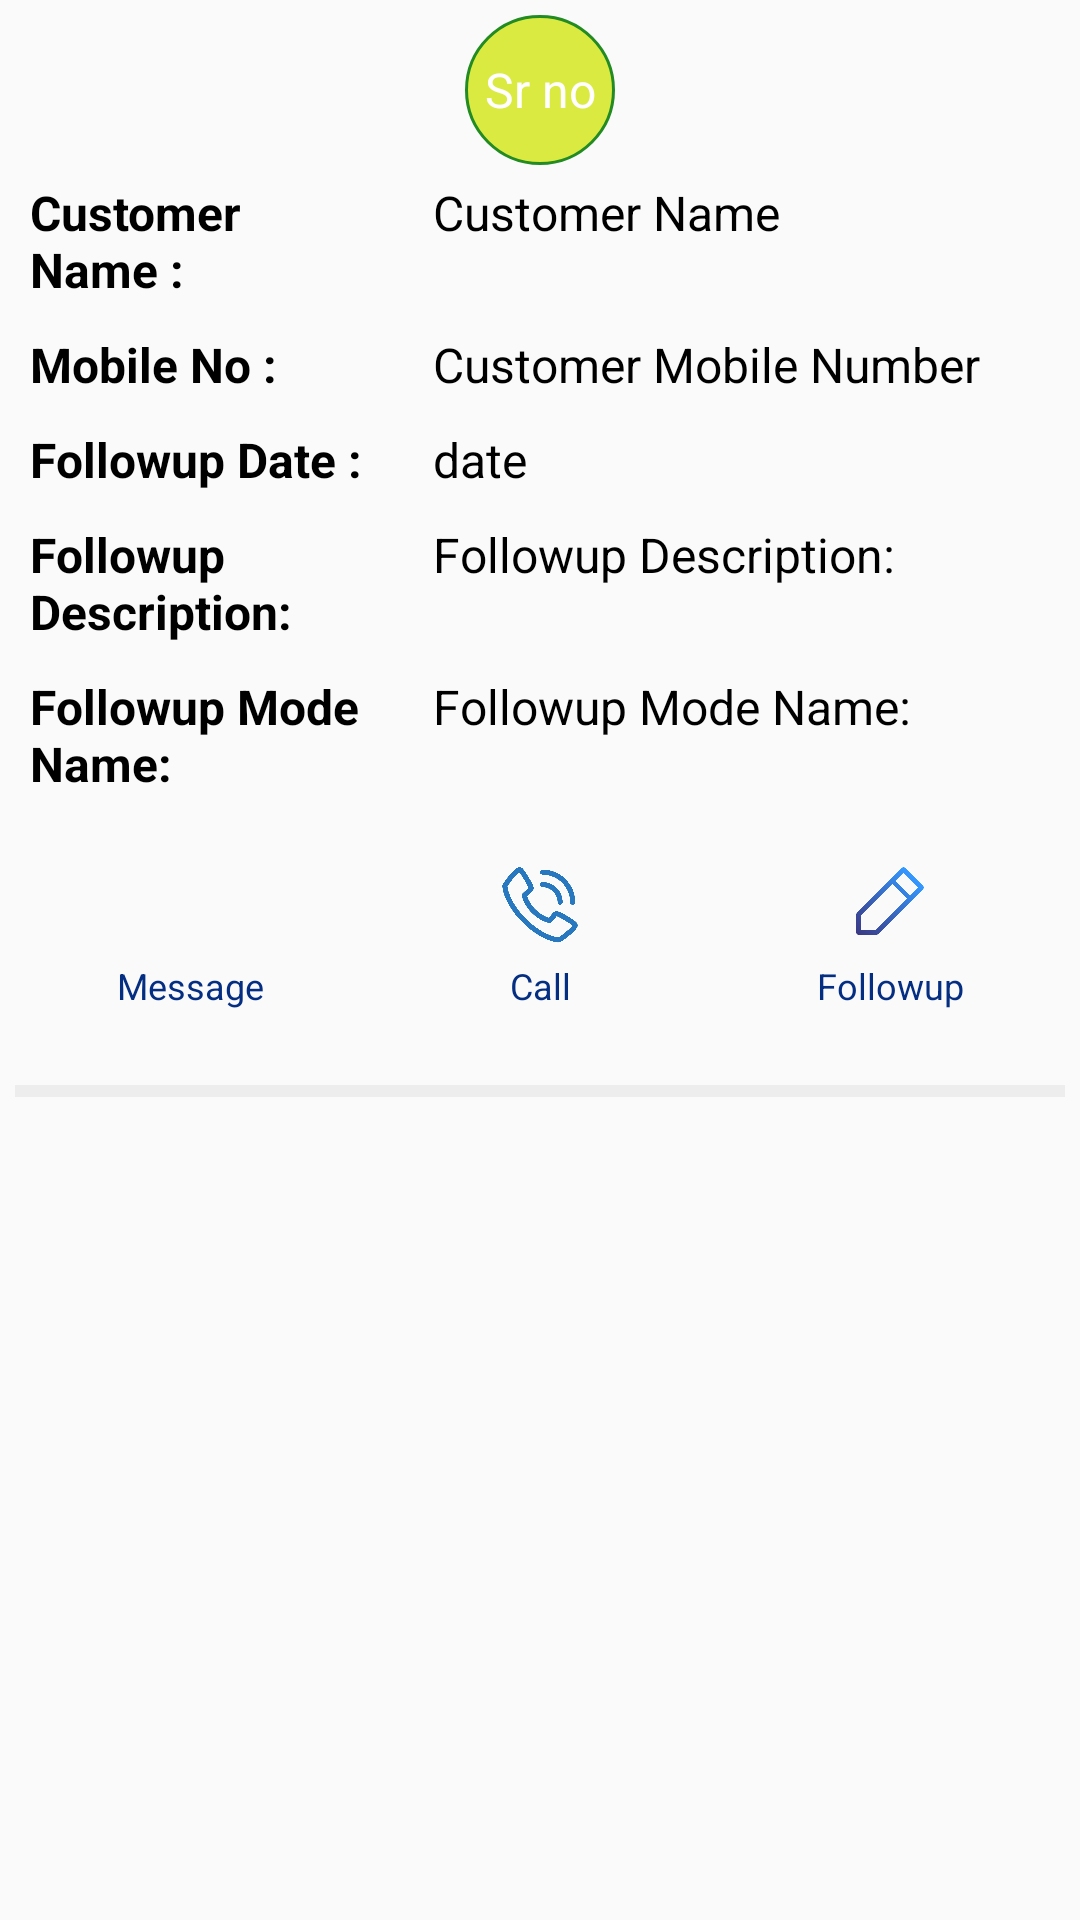

Screen size 1080w x 1920h. Icon name, then its center in pixels as [x,y]:
create: [890,901]
